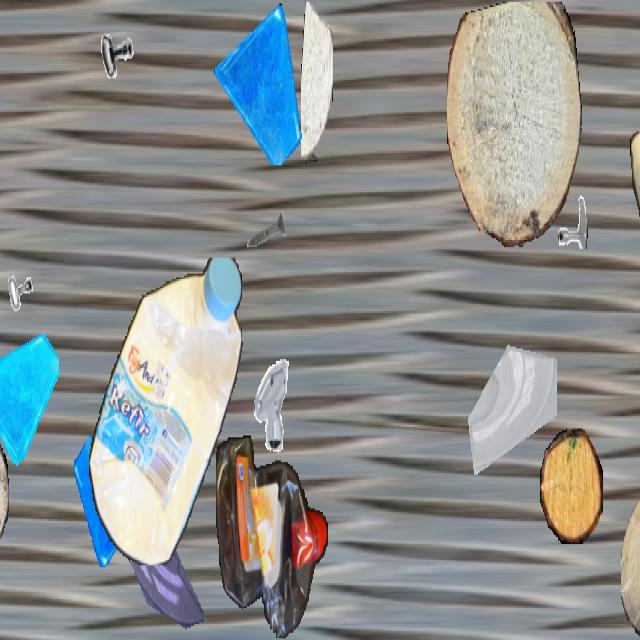glass: (464, 309, 556, 473), (214, 2, 306, 165), (121, 489, 205, 638), (74, 432, 150, 567), (0, 320, 59, 466)
metal: (240, 351, 298, 454), (0, 268, 45, 358), (546, 174, 588, 249), (245, 192, 287, 267), (97, 16, 137, 87), (0, 251, 1, 357)
plastic: (88, 257, 244, 564), (216, 436, 328, 638), (630, 132, 640, 330)
wood: (447, 2, 581, 247), (540, 428, 602, 542), (301, 2, 333, 162), (621, 489, 640, 638), (0, 423, 9, 565)
